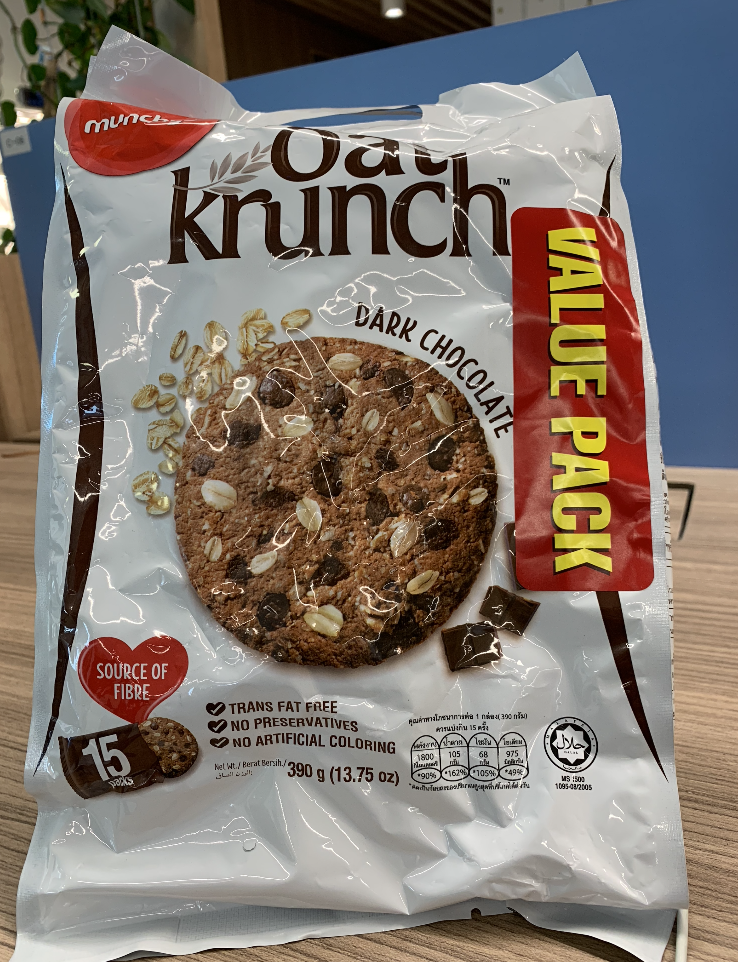cookies_150g: (83, 118, 631, 839)
